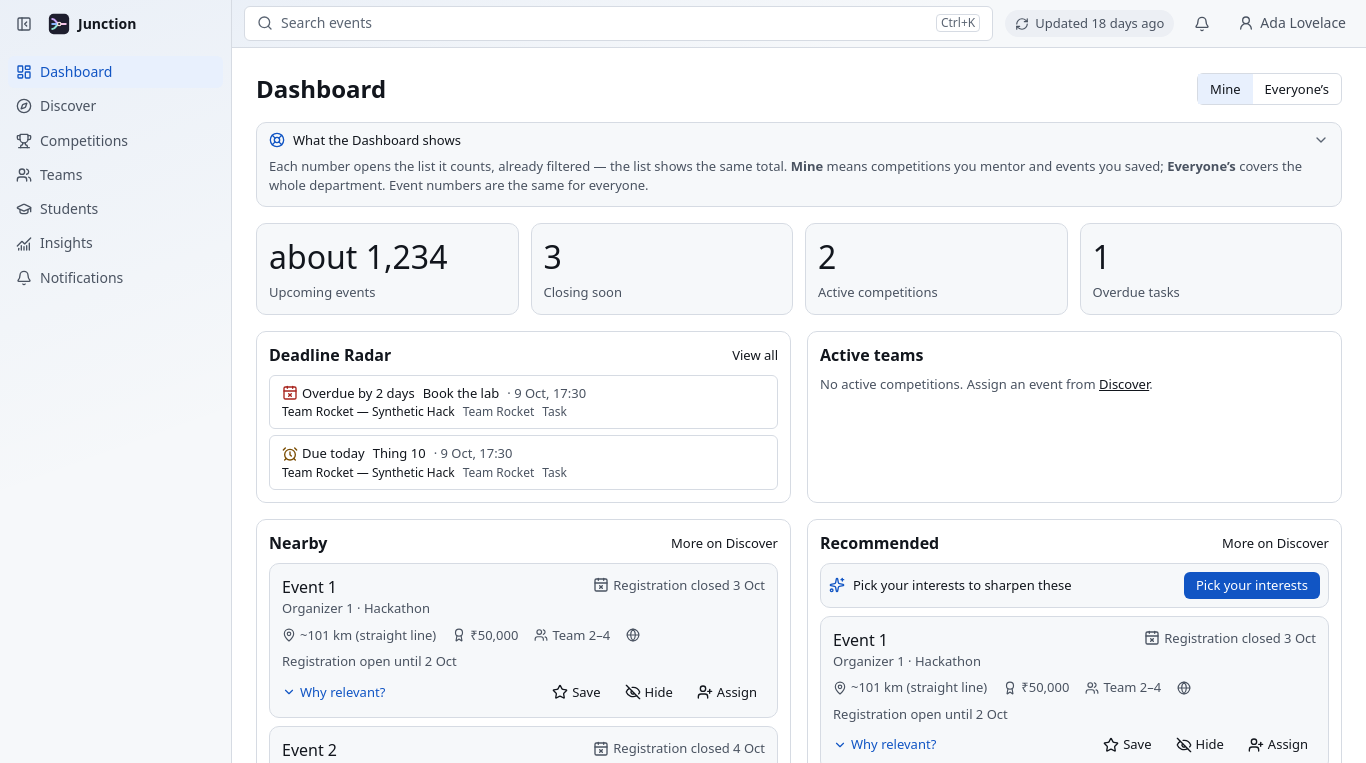
the KPI tiles › Overdue tasks opens the Radar with exactly those chips
Expected: the navigation bar named "Main" is shown, [0,0,231,302]
Click the text with test id "kpi-OVERDUE_TASKS" at (1102, 257), box [1092,235,1111,278]
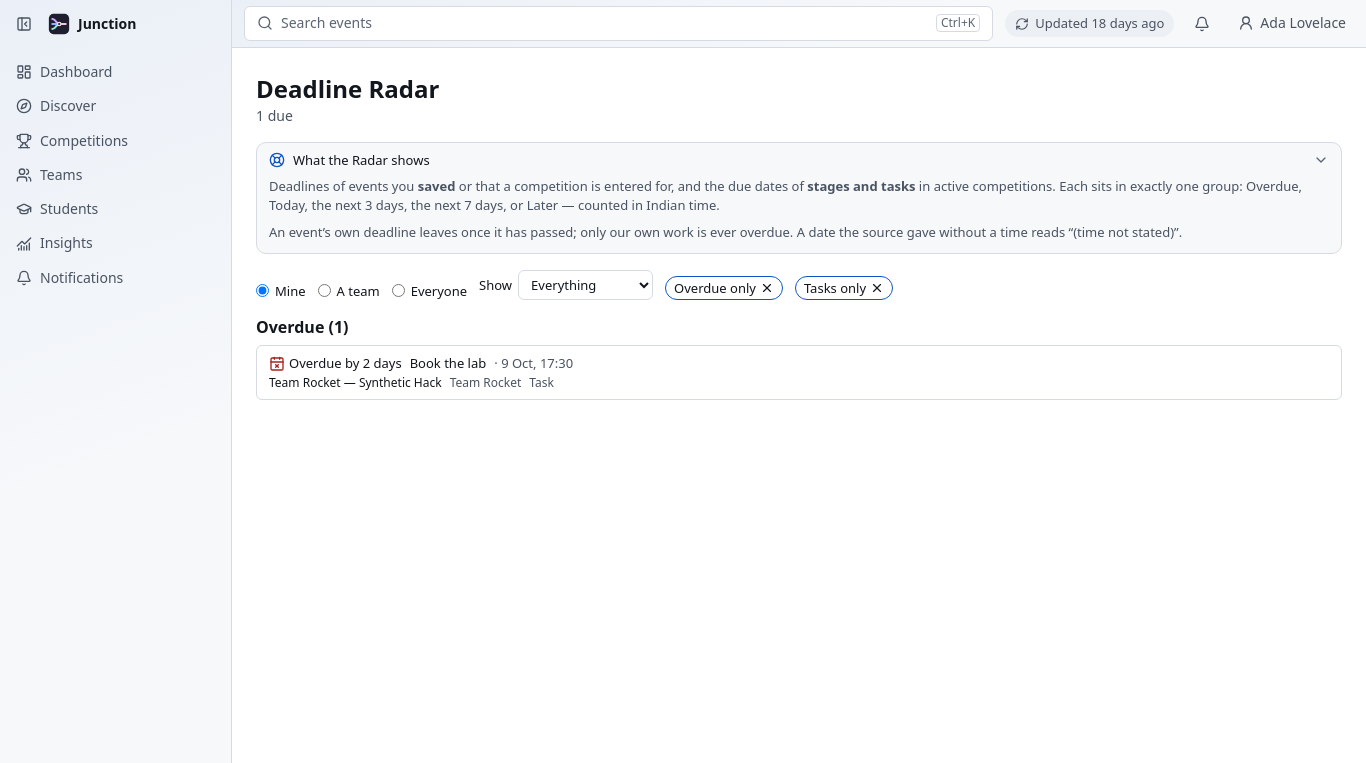
Expected: the button with aria-label "Remove filter: Overdue only" is shown, [665,276,783,300]
Expected: the button with aria-label "Remove filter: Tasks only" is shown, [795,276,893,300]
Expected: the text "1 due" is shown, [256,106,293,125]
